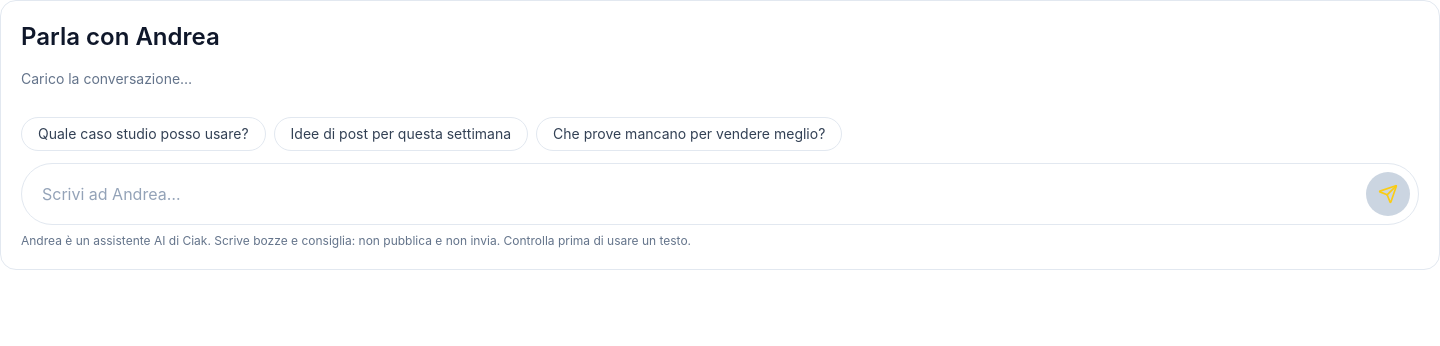
Test case: se Andrea non risponde lo dice e non aggiunge una risposta finta
Type "ciao" into the field labelled "Scrivi ad Andrea". click: [698, 194]
box: [42, 182, 1354, 206]
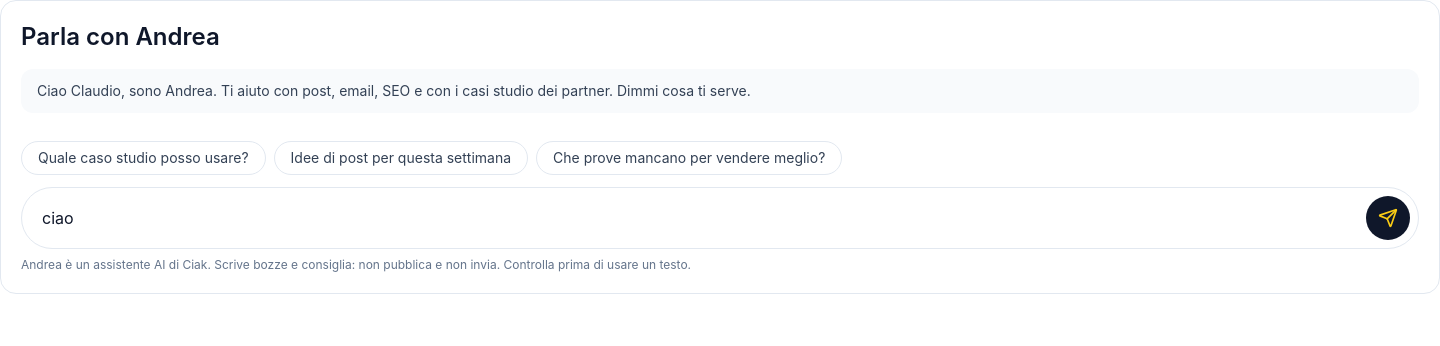
Click the button named "Invia ad Andrea". click: [1388, 218]
box: [1366, 196, 1410, 240]
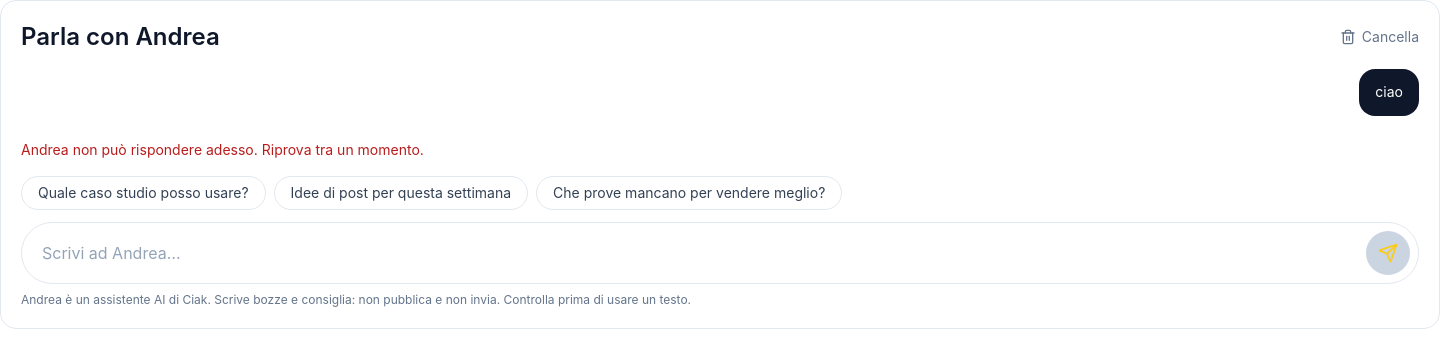
Now the text "Andrea non può rispondere adesso. Riprova tra un momento." is shown, box [21, 141, 424, 158]
